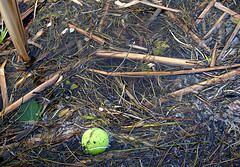tennis ball: (80, 124, 110, 157)
